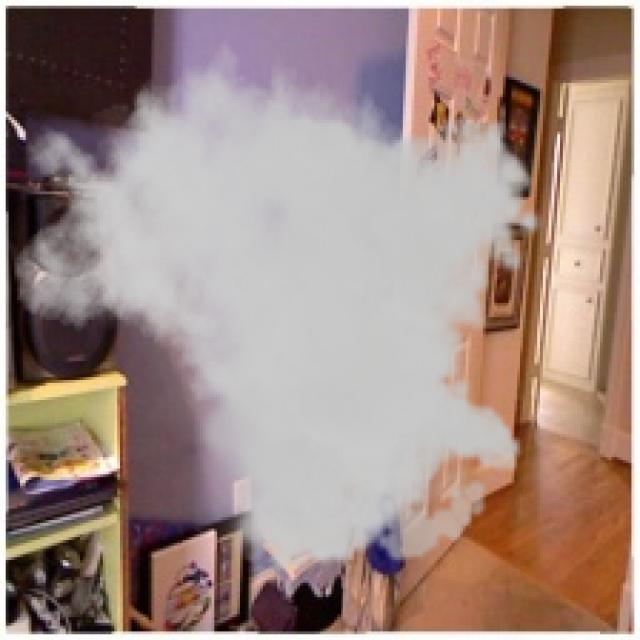smoke: (11, 20, 546, 577)
